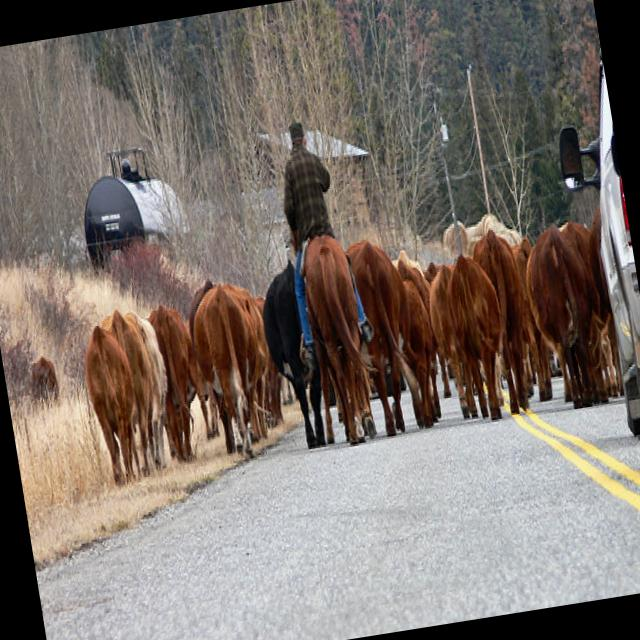Vehicle: (541, 29, 640, 448), (607, 133, 640, 475)
